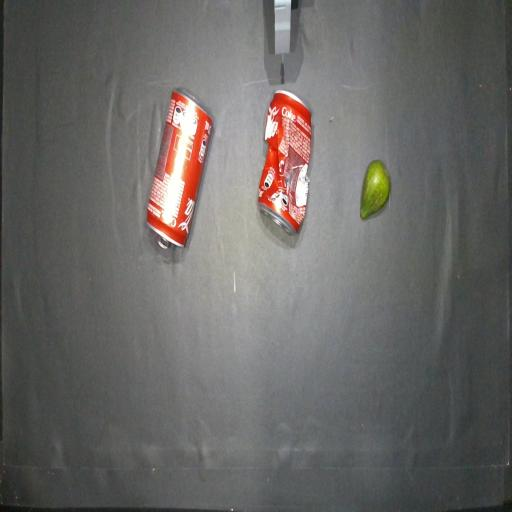higo: (360, 160, 390, 219)
lata: (147, 90, 212, 247)
lata_defectuoso: (258, 90, 311, 234)
